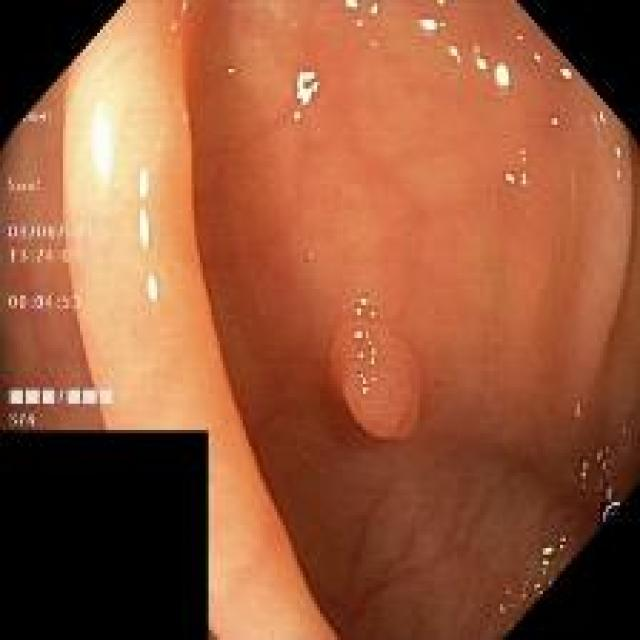Polyps: (330, 297, 421, 439)
